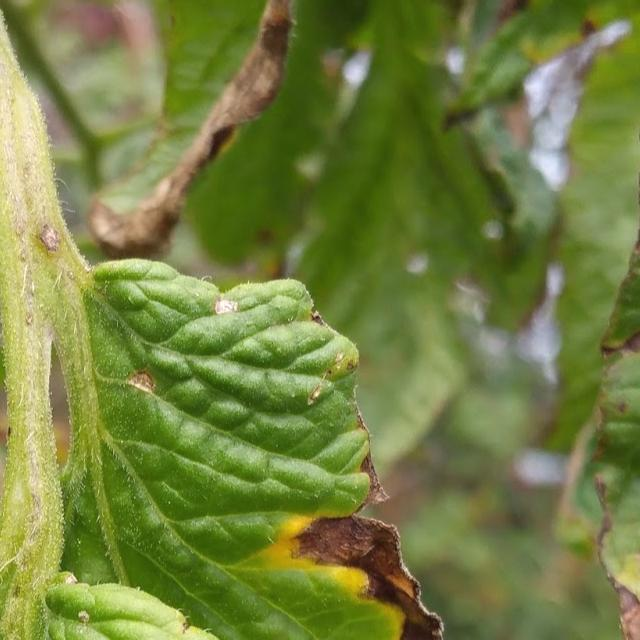Tomato leaf bacterial spot: (10, 236, 496, 640), (0, 509, 334, 640)
